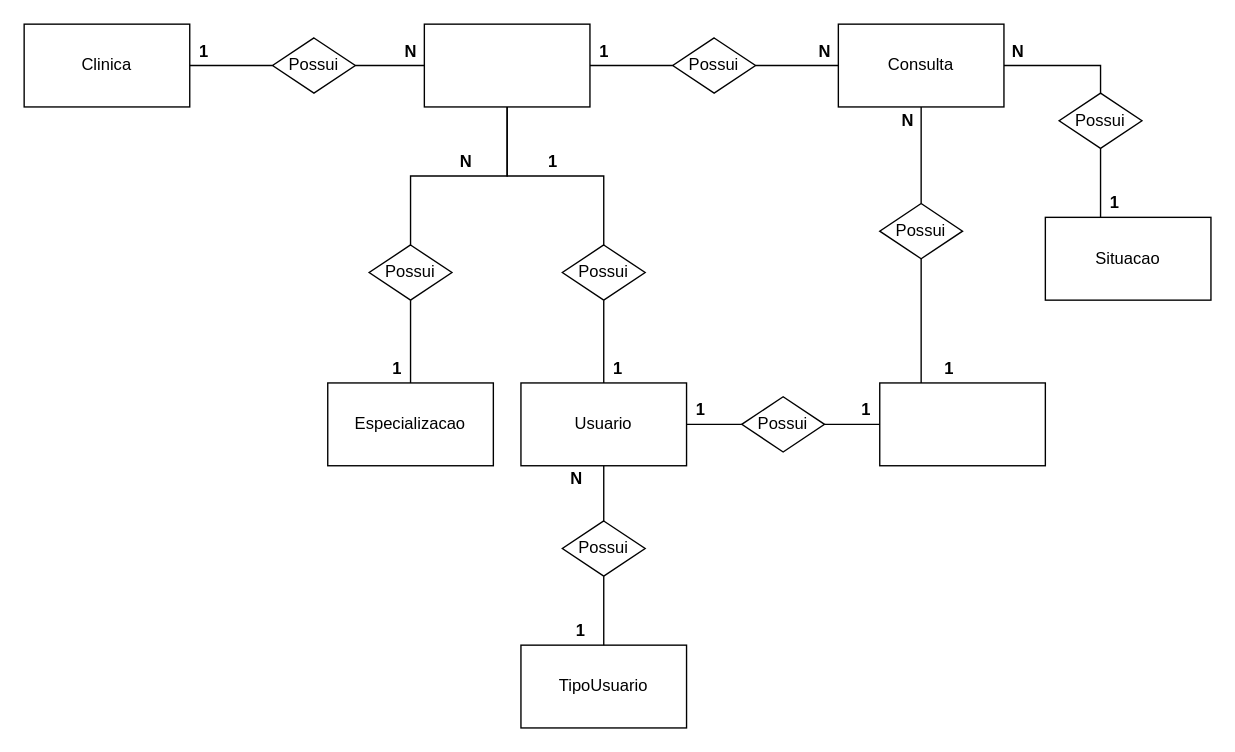
Some shapes in this 1235 by 752 pixel diagram are drawn without their labels. Each missing label, with the centre of its shape:
Medico: the point at 506,65
Prontuário: the point at 961,424
